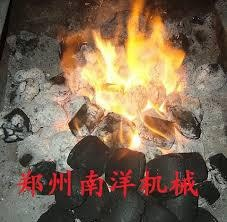fire: (57, 13, 188, 149)
